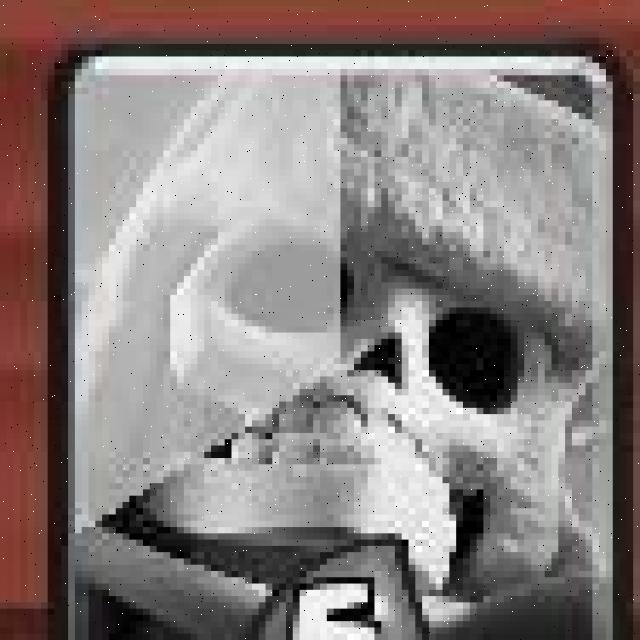Giant_Skeleton: (48, 45, 626, 640)
